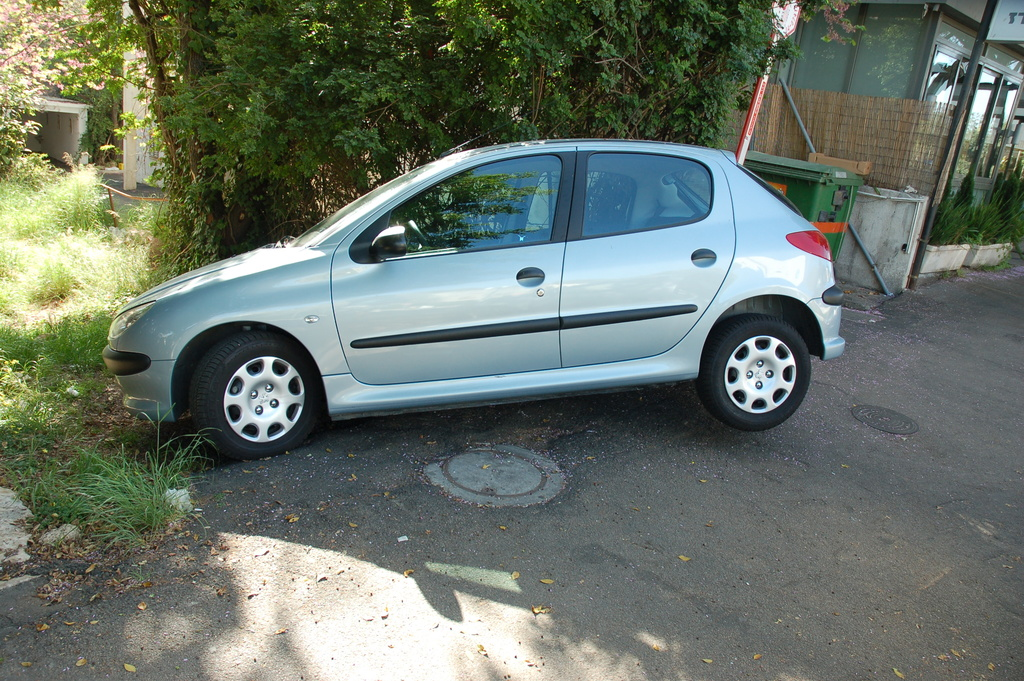Tree: (0, 0, 865, 289)
